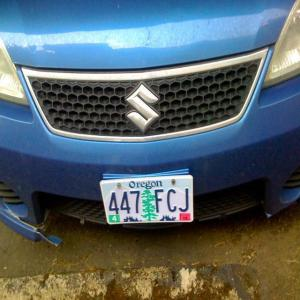Plate: (101, 176, 193, 224)
